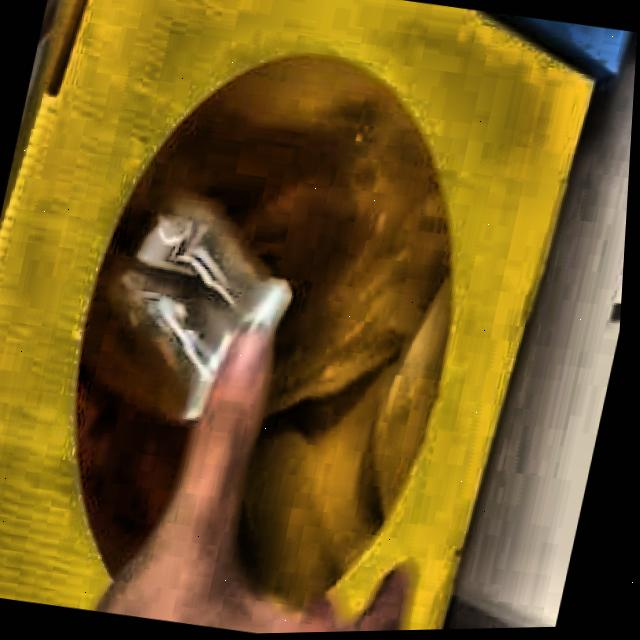plastic: (85, 196, 294, 423)
